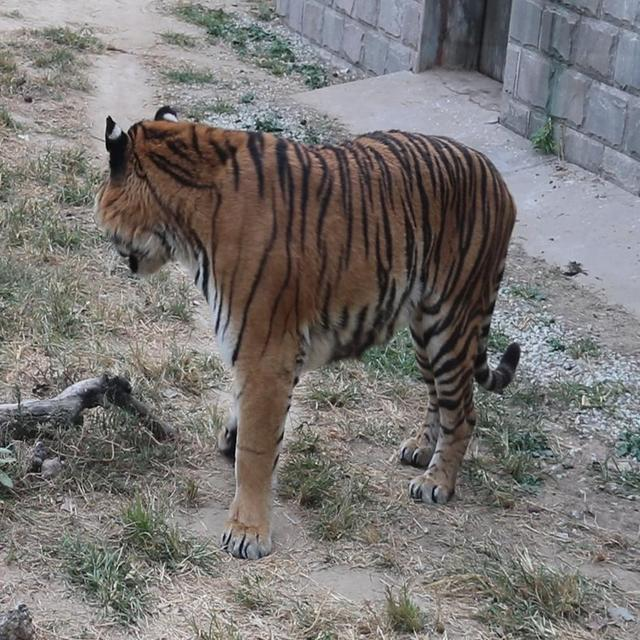tiger: (85, 90, 549, 562)
